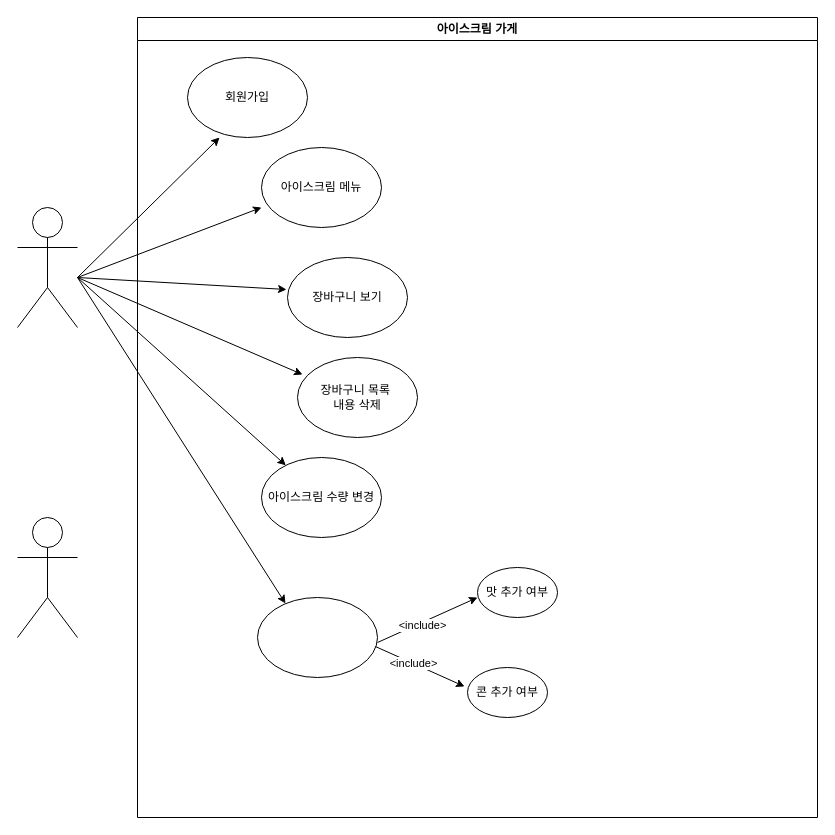
The diagram is 835 pixels wide and 835 high, and some of its shapes have lost their labels. The centre of each missing label's shape, as x and y in pixels:
"Admin" goes at pixel 47 577.
"user" goes at pixel 47 267.
"주문" goes at pixel 317 637.
